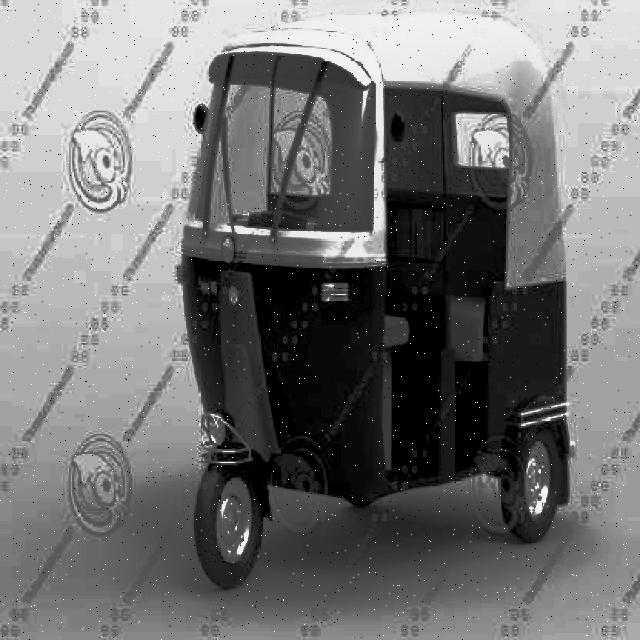Auto-Rickshaw: (189, 8, 578, 590)
